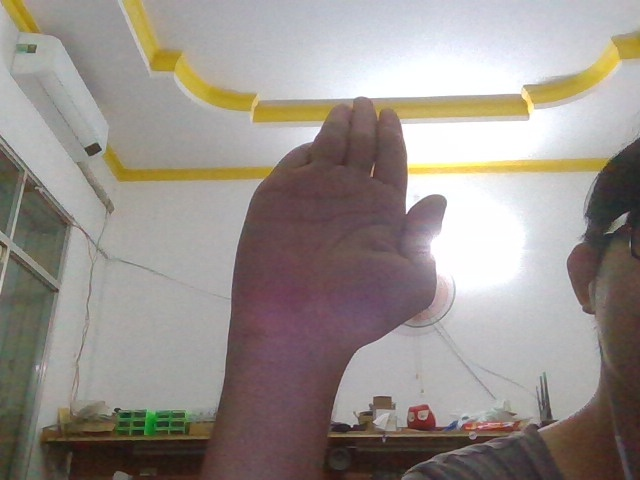stop: (195, 78, 462, 383)
